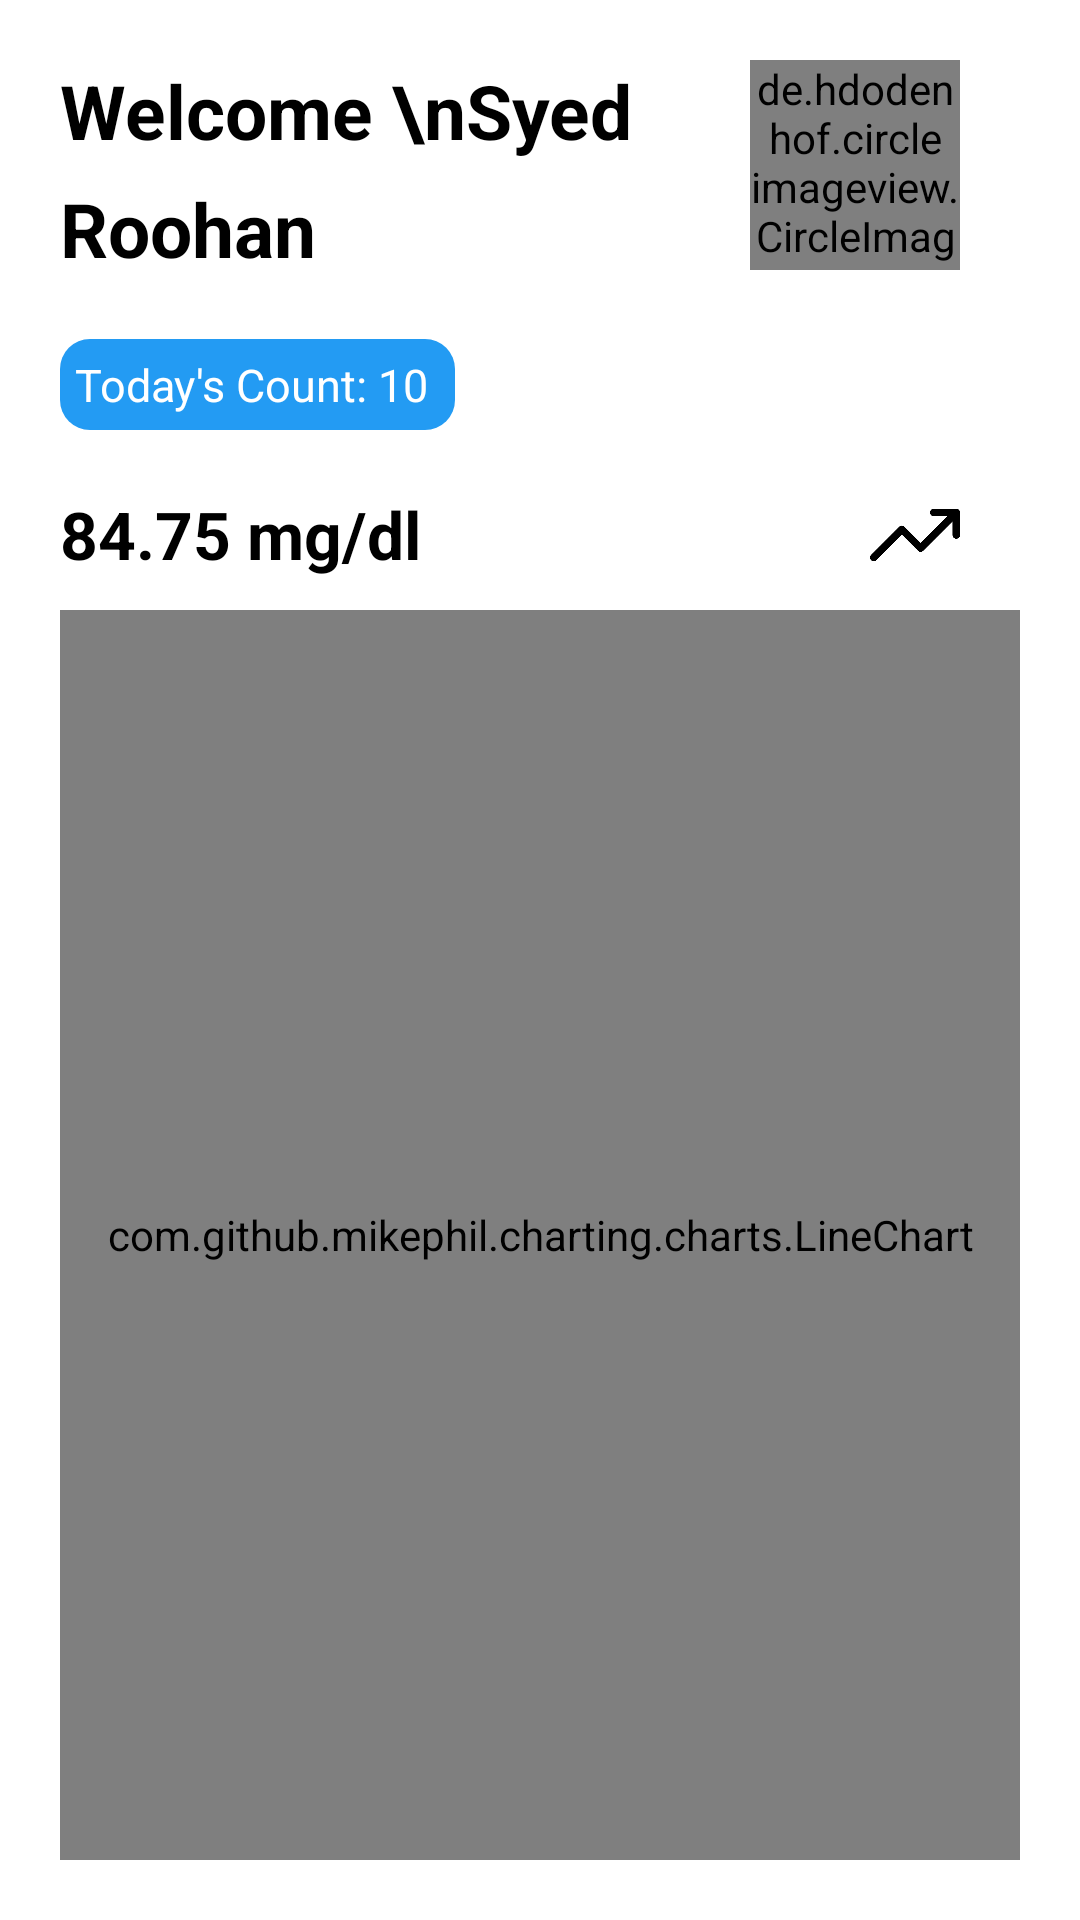

Icons on this 1080w x 1920h Android screen, each with the point to tap as [x,y]:
trend: [915,535]
